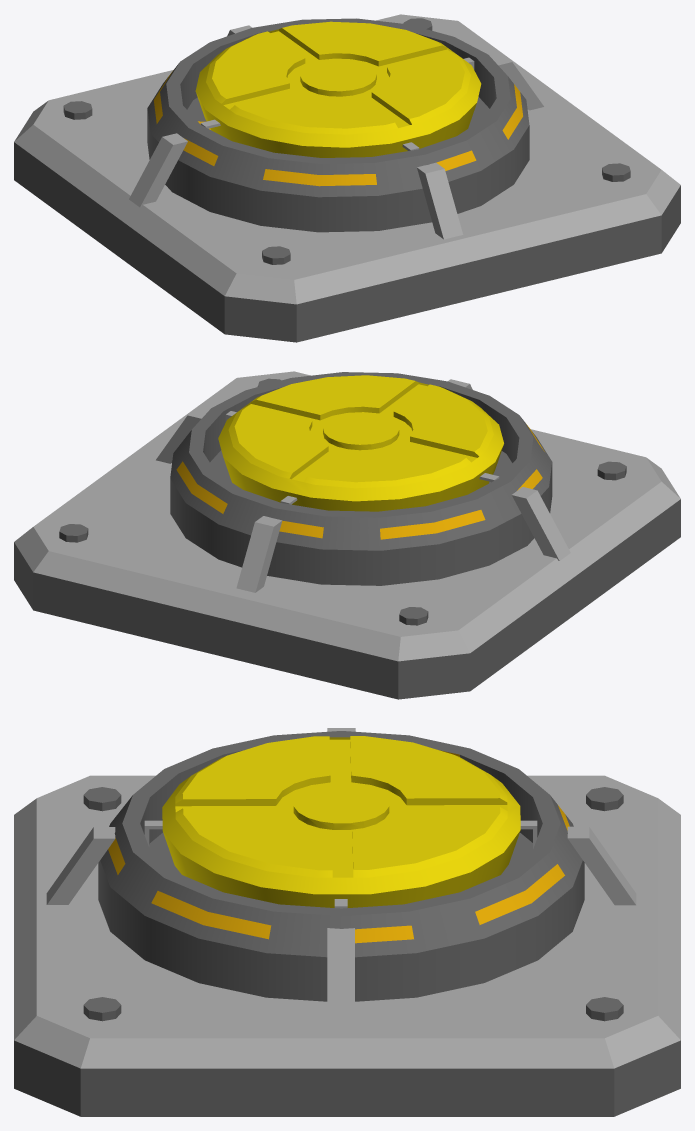
Rendered from Bouton humain.fbx.
3 renders of one model, top to bottom at view 1: azimuth 30°, elevation 25°; view 2: azimuth 150°, elevation 25°; view 3: azimuth 270°, elevation 25°, orthographic. The views are drawn at different scales.
Parts seen in each view (by area): view 1: support, bouton; view 2: support, bouton; view 3: support, bouton.
Boxes of the visible parts, left/top/right/bottom form: support: left=14, top=14, right=680, bottom=342; bouton: left=195, top=21, right=481, bottom=157; support: left=14, top=371, right=680, bottom=699; bouton: left=218, top=375, right=504, bottom=511; support: left=14, top=728, right=680, bottom=1116; bouton: left=162, top=736, right=520, bottom=907.
Size of the model in its own units: 0.4948 by 0.1357 by 0.4948.
